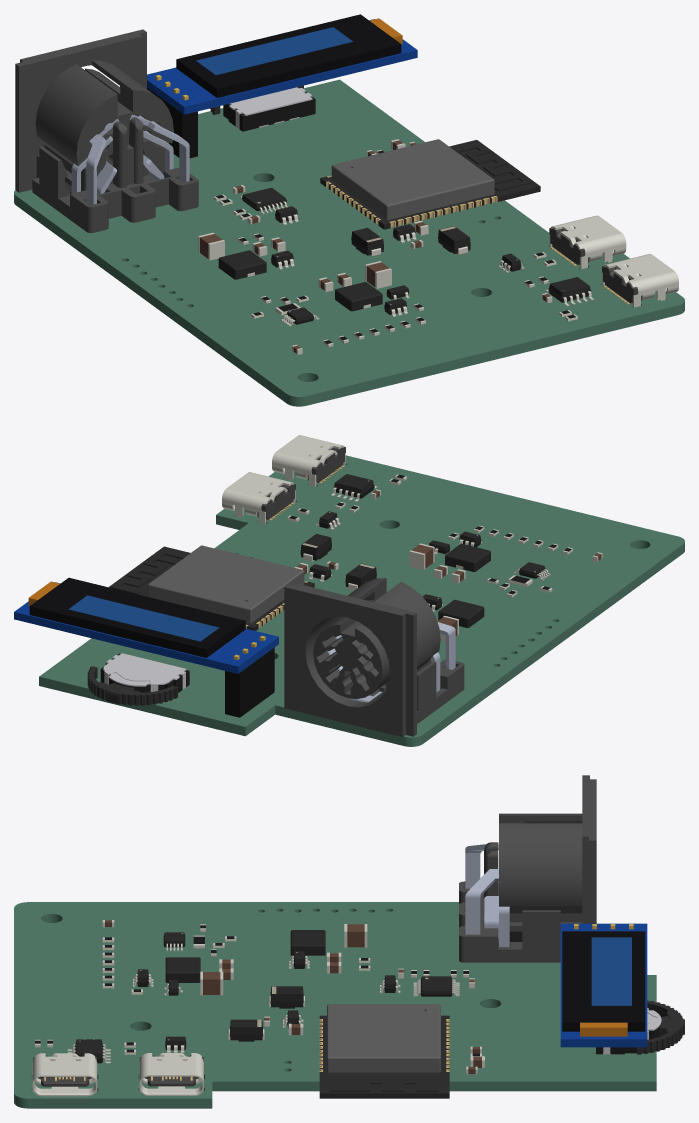
File: board.glb
The picture shows the model from 3 angles, top to bottom: view 1: azimuth 30°, elevation 25°; view 2: azimuth 150°, elevation 25°; view 3: azimuth 270°, elevation 25°; orthographic projection. The views are drawn at different scales.
Parts seen in each view (by area): view 1: =>[0:1:1:54], Panel-270-DIN7, =>[0:1:1:37], =>[0:1:1:53], Retainer, =>[0:1:1:13] (×2), =>[0:1:1:27] (×2), =>[0:1:1:7] (×2), housing, cover, =>[0:1:1:23] (×2), MirrorPin 1 (+4 smaller); view 2: =>[0:1:1:54], Panel-270-DIN7, =>[0:1:1:37], =>[0:1:1:53], =>[0:1:1:13] (×2), cover, Retainer, =>[0:1:1:27] (×2), =>[0:1:1:25], lever, =>[0:1:1:7] (×2), =>[0:1:1:29] (+3 smaller); view 3: =>[0:1:1:54], =>[0:1:1:53], Panel-270-DIN7, =>[0:1:1:37], =>[0:1:1:13] (×2), Retainer, =>[0:1:1:27] (×2), =>[0:1:1:7] (×2), lever, =>[0:1:1:23] (×2), Pin 1-270, =>[0:1:1:3] (+2 smaller).
Part boxes in pixels (x1=…): =>[0:1:1:54]: x1=14, y1=79, x2=684, y2=406; Panel-270-DIN7: x1=15, y1=29, x2=173, y2=192; =>[0:1:1:37]: x1=147, y1=14, x2=417, y2=127; =>[0:1:1:53]: x1=320, y1=139, x2=540, y2=229; Retainer: x1=32, y1=117, x2=198, y2=232; =>[0:1:1:13] (×2): x1=549, y1=215, x2=678, y2=307; =>[0:1:1:27] (×2): x1=218, y1=250, x2=382, y2=311; =>[0:1:1:7] (×2): x1=351, y1=226, x2=470, y2=256; housing: x1=223, y1=92, x2=315, y2=131; cover: x1=229, y1=87, x2=312, y2=128; =>[0:1:1:23] (×2): x1=198, y1=232, x2=391, y2=288; MirrorPin 1: x1=86, y1=118, x2=119, y2=204; =>[0:1:1:54]: x1=39, y1=455, x2=684, y2=746; Panel-270-DIN7: x1=284, y1=578, x2=440, y2=736; =>[0:1:1:37]: x1=14, y1=577, x2=278, y2=686; =>[0:1:1:53]: x1=109, y1=545, x2=314, y2=630; =>[0:1:1:13] (×2): x1=222, y1=435, x2=345, y2=523; cover: x1=103, y1=653, x2=186, y2=691; Retainer: x1=369, y1=659, x2=464, y2=723; =>[0:1:1:27] (×2): x1=438, y1=543, x2=490, y2=627; =>[0:1:1:25]: x1=225, y1=662, x2=274, y2=717; lever: x1=87, y1=666, x2=177, y2=705; =>[0:1:1:7] (×2): x1=300, y1=534, x2=376, y2=590; =>[0:1:1:29]: x1=331, y1=474, x2=377, y2=501; =>[0:1:1:54]: x1=14, y1=902, x2=656, y2=1108; =>[0:1:1:53]: x1=319, y1=1004, x2=449, y2=1098; Panel-270-DIN7: x1=499, y1=775, x2=596, y2=941; =>[0:1:1:37]: x1=560, y1=923, x2=647, y2=1047; =>[0:1:1:13] (×2): x1=32, y1=1053, x2=203, y2=1096; Retainer: x1=459, y1=842, x2=560, y2=962; =>[0:1:1:27] (×2): x1=165, y1=930, x2=325, y2=982; =>[0:1:1:7] (×2): x1=228, y1=986, x2=304, y2=1041; lever: x1=637, y1=1000, x2=684, y2=1054; =>[0:1:1:23] (×2): x1=200, y1=924, x2=367, y2=995; Pin 1-270: x1=465, y1=869, x2=498, y2=934; =>[0:1:1:3]: x1=413, y1=976, x2=459, y2=996.
Bounding box in the file's own units: 0.0647 × 0.0232 × 0.093.
